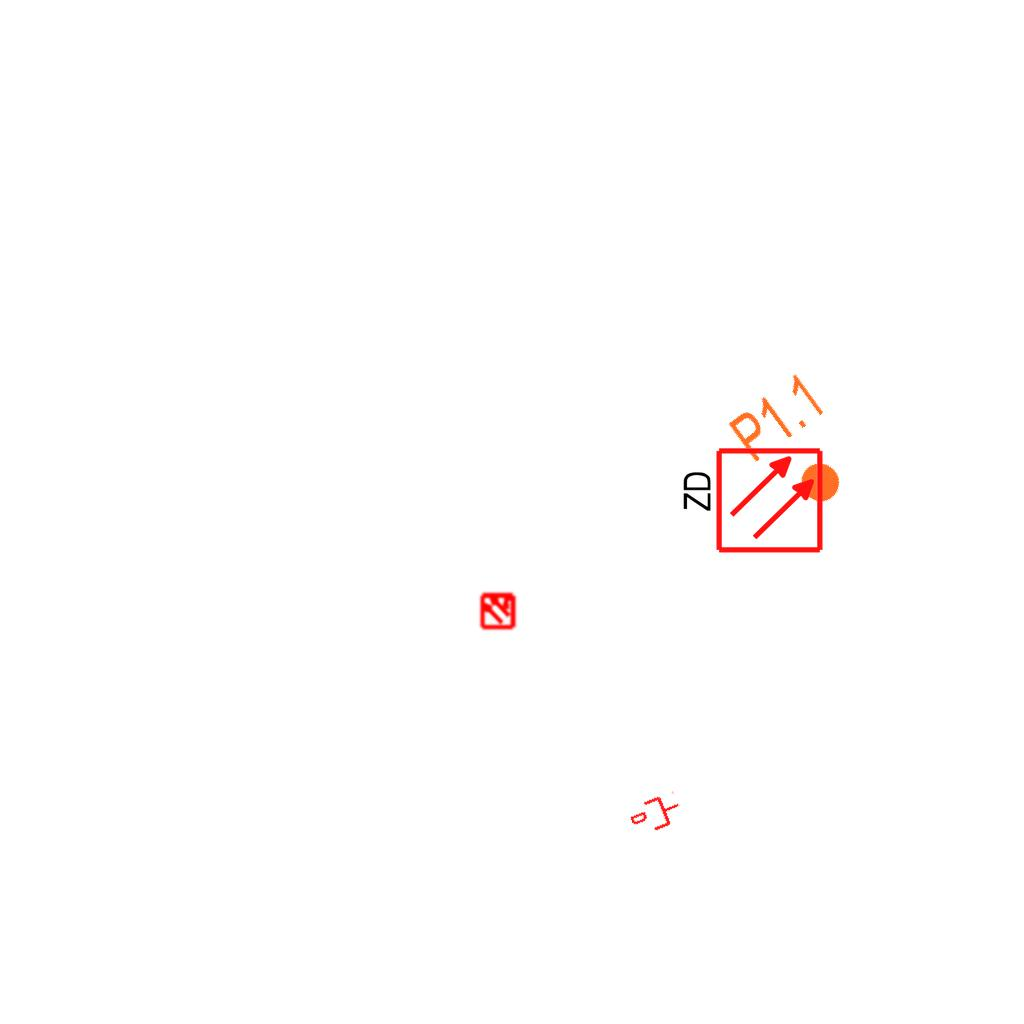Datenanschluss_einfach: (626, 788, 686, 840)
Downlight_LED_Einbauleuchten_Flur: (723, 367, 874, 527)
OT_Multisensormelder_(Kombination_RMO_WMD): (470, 582, 526, 638)
ZD_Melder_in_Zwischendecke_mit_Revisionsoeffnung_mind_40_x_40_cm: (676, 445, 825, 559)
